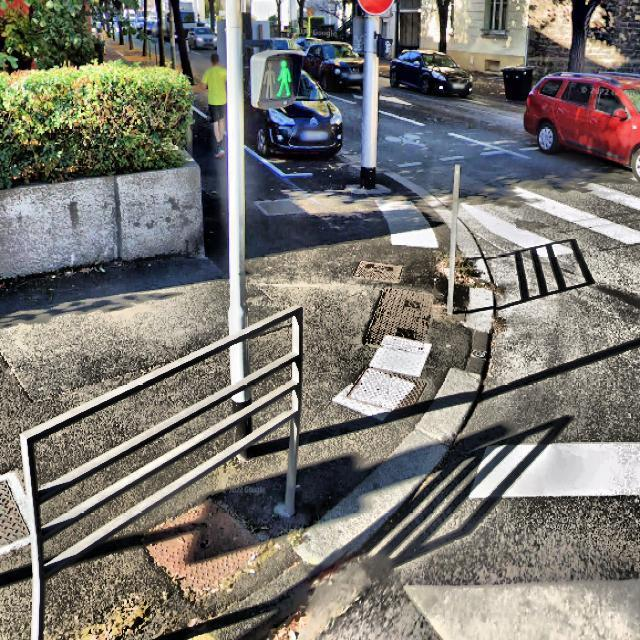green_light: (274, 56, 292, 100)
